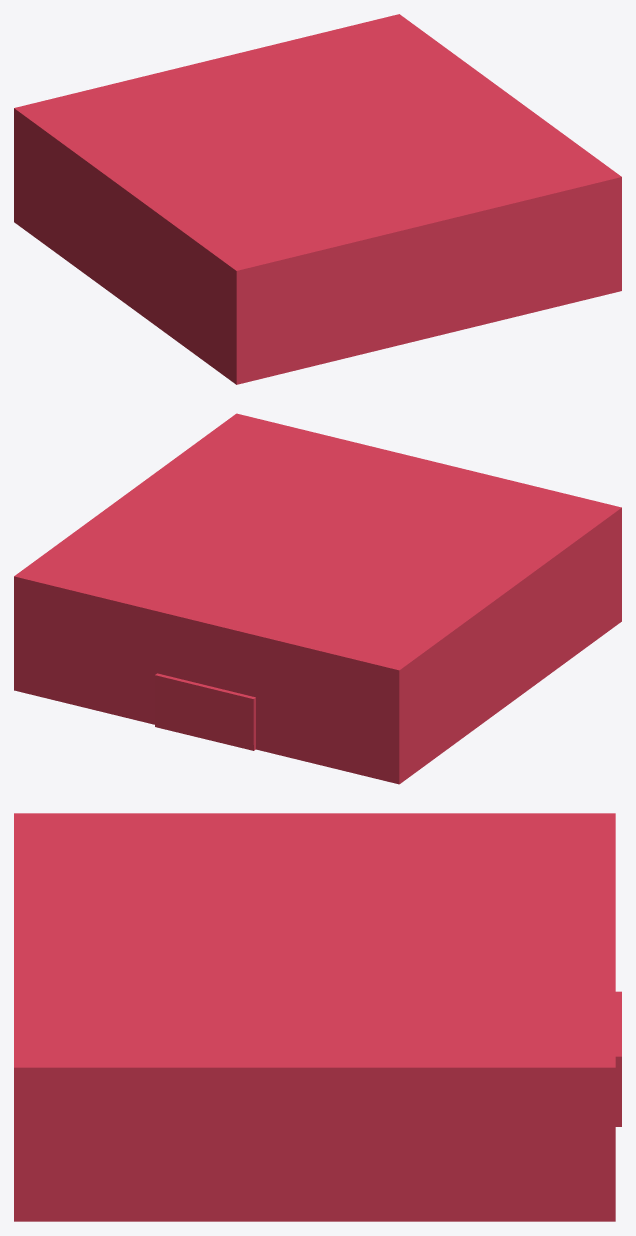
File: Itr_Trashcan1_Cap_04.FBX
3 views of the same model, one above another, from view 1: azimuth 30°, elevation 25°; view 2: azimuth 150°, elevation 25°; view 3: azimuth 270°, elevation 25° (orthographic). The views are drawn at different scales.
Visible parts, largest first — view 1: Itr_Trashcan1_Cap_04; view 2: Itr_Trashcan1_Cap_04; view 3: Itr_Trashcan1_Cap_04.
Boxes of the visible parts, x1=… form: Itr_Trashcan1_Cap_04: x1=14, y1=14, x2=621, y2=384; Itr_Trashcan1_Cap_04: x1=14, y1=413, x2=621, y2=784; Itr_Trashcan1_Cap_04: x1=14, y1=813, x2=621, y2=1221.
Bounding box in the file's own units: 14.85 × 4.2 × 15.01.
